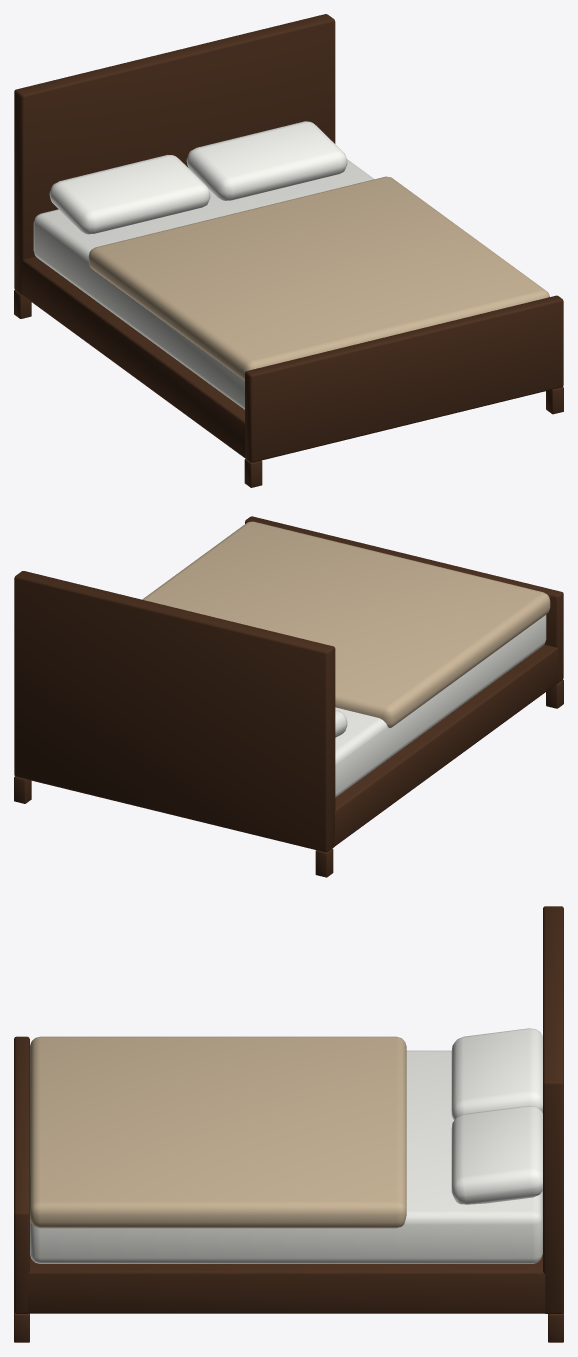
Rendered from Bed_Double.glb.
3 views of the same model, one above another, from view 1: azimuth 30°, elevation 25°; view 2: azimuth 150°, elevation 25°; view 3: azimuth 270°, elevation 25° (orthographic). The views are drawn at different scales.
Visible parts, largest first — view 1: Bed_Double; view 2: Bed_Double; view 3: Bed_Double.
Part boxes in pixels (bbox=[...]): Bed_Double: bbox=[14, 14, 563, 487]; Bed_Double: bbox=[14, 516, 563, 877]; Bed_Double: bbox=[14, 906, 563, 1342].
Bounding box in the file's own units: 1.6 × 1.1 × 2.1.
